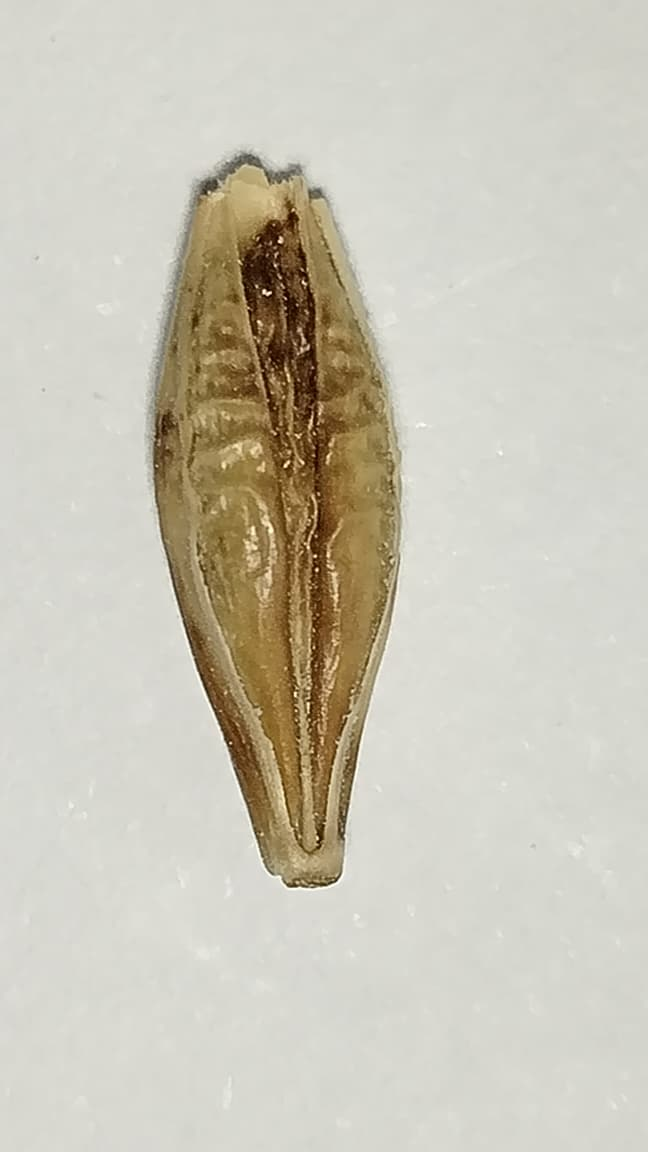damage: (154, 164, 400, 886)
shriveledseed: (190, 225, 380, 599)
staindamage: (241, 208, 369, 505)
